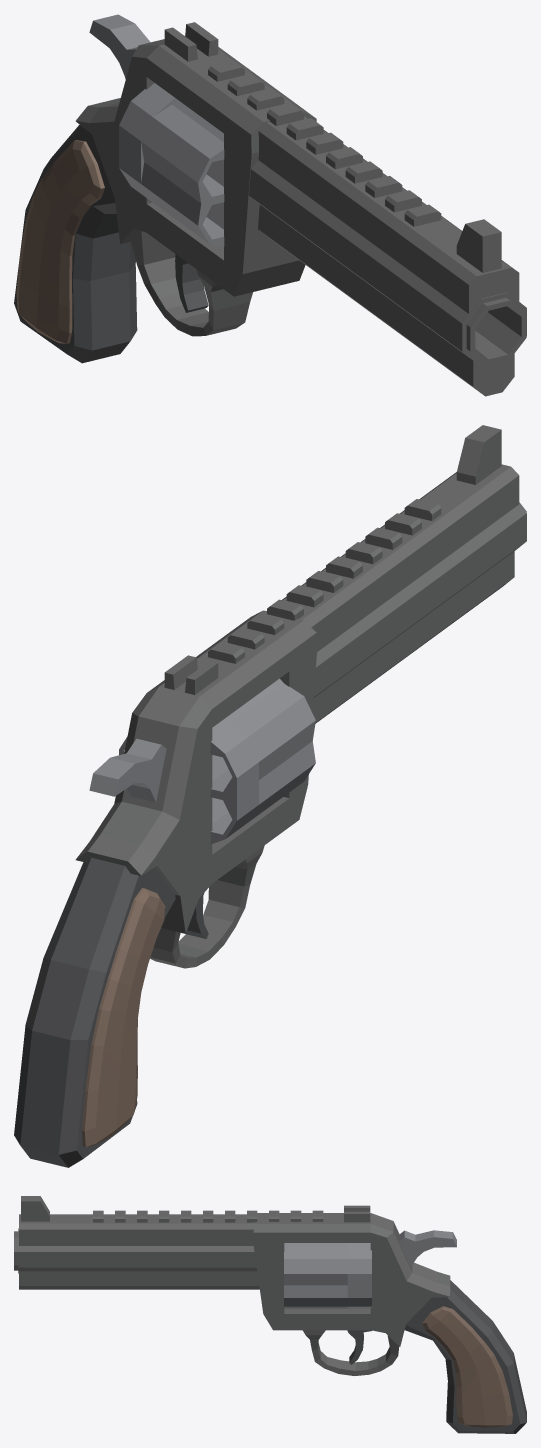
The model's file is revolver_3.glb.
3 views of the same model, one above another, from view 1: azimuth 30°, elevation 25°; view 2: azimuth 150°, elevation 25°; view 3: azimuth 270°, elevation 25° (orthographic). The views are drawn at different scales.
Parts seen in each view (by area): view 1: revolver_3; view 2: revolver_3; view 3: revolver_3.
Part boxes in pixels (x1=…): revolver_3: x1=14, y1=14, x2=526, y2=396; revolver_3: x1=14, y1=425, x2=526, y2=1167; revolver_3: x1=14, y1=1196, x2=526, y2=1433.
Bounding box in the file's own units: 0.0445 × 0.1485 × 0.3.
